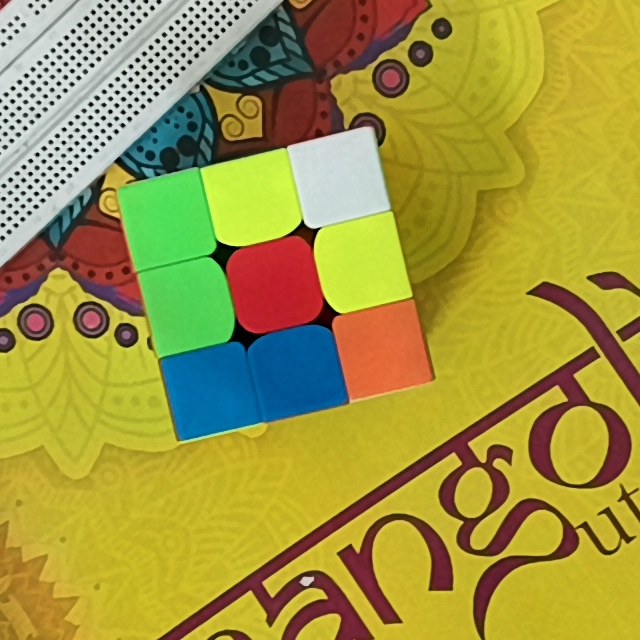tile: (172, 357, 244, 421), (305, 143, 373, 210), (346, 318, 416, 383), (329, 230, 396, 297), (130, 188, 199, 253), (152, 272, 222, 335), (243, 252, 307, 320), (262, 340, 330, 404), (220, 167, 285, 232)
